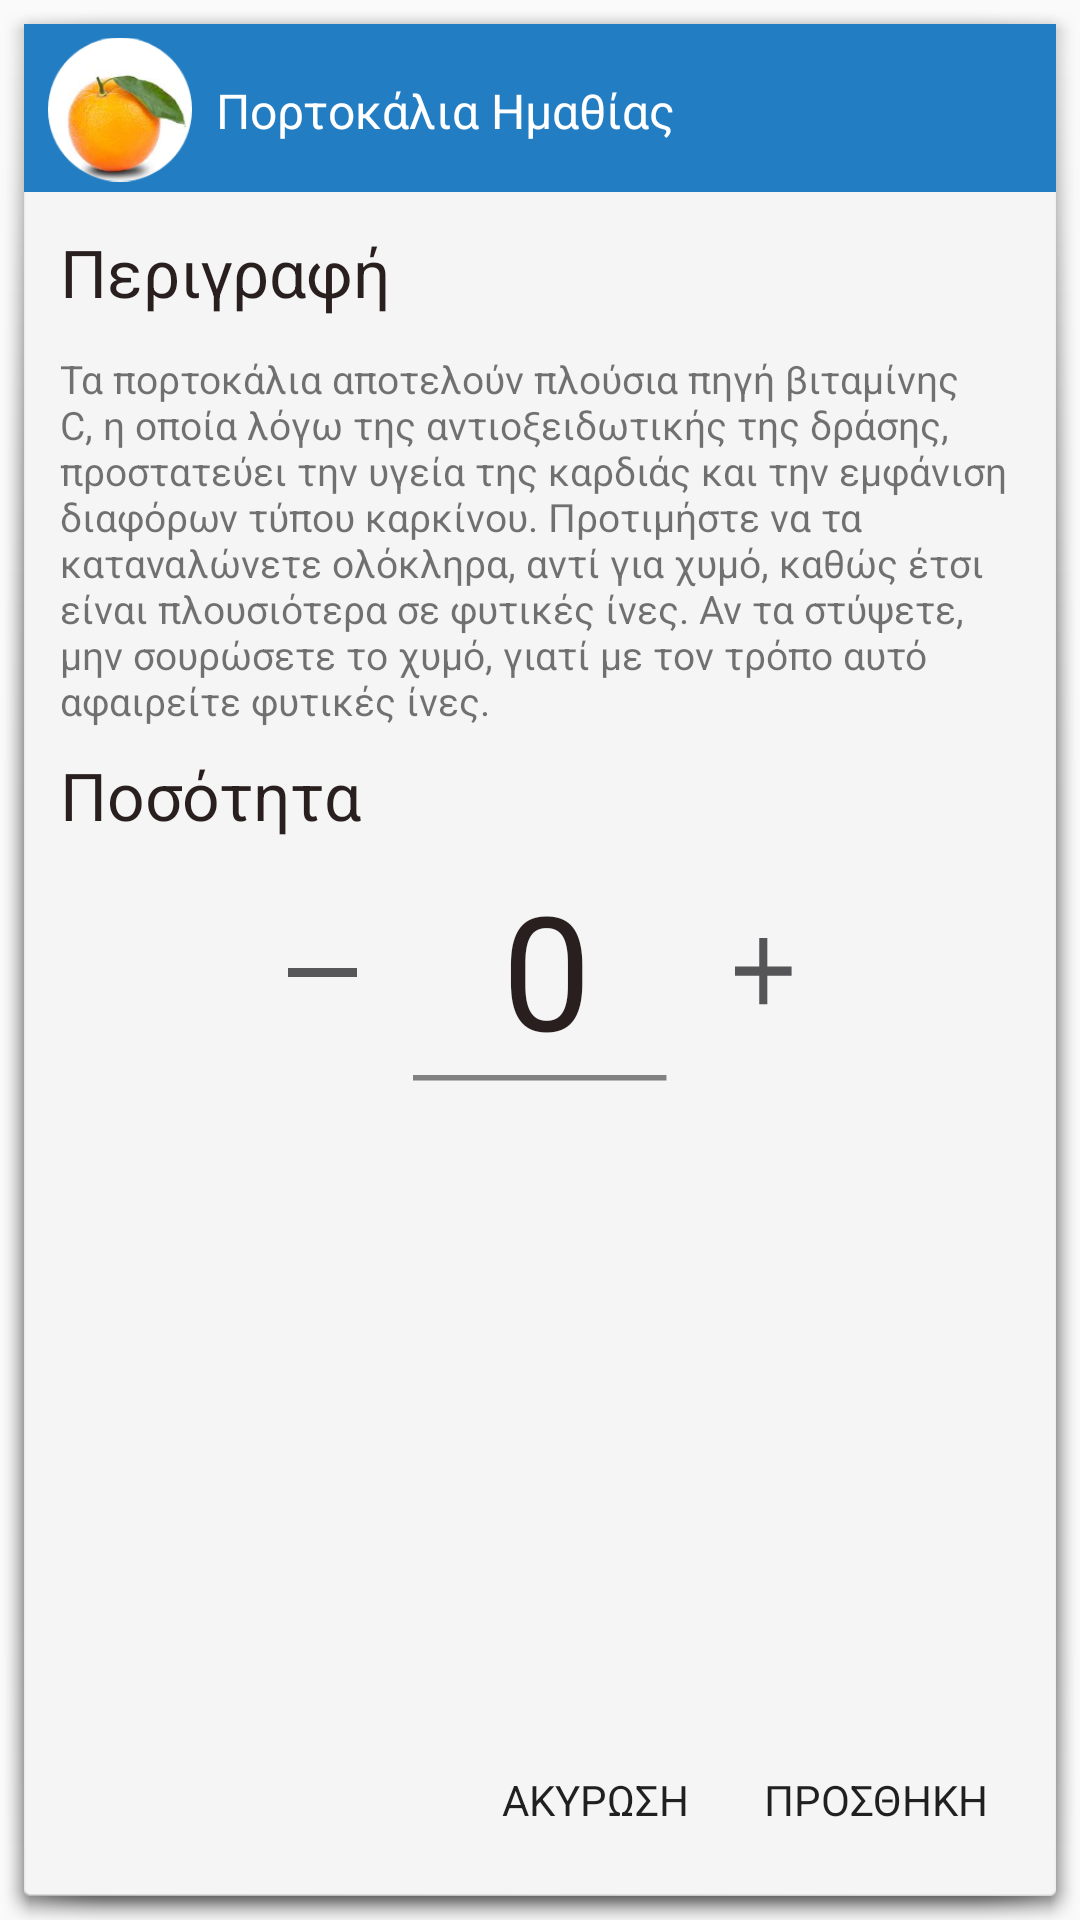

Where to tap for icons on this 1080px×1920px app screen, as (x,y):
plus: (763,971)
